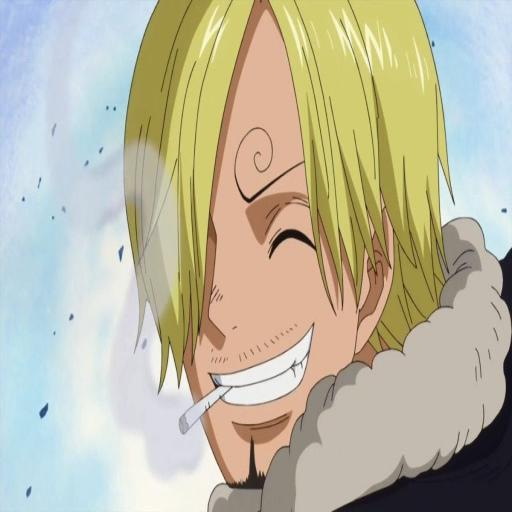sanji: (128, 0, 512, 502)
